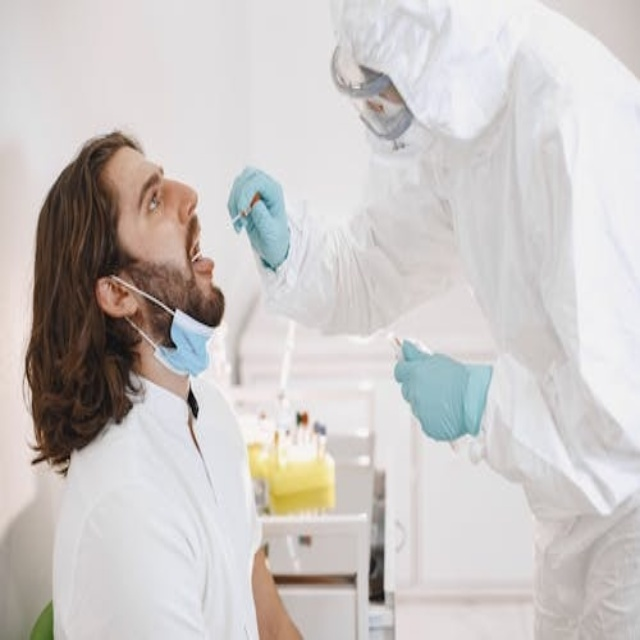Gafas: (320, 29, 425, 144)
Guantes: (394, 338, 492, 445), (228, 166, 291, 273)
Mascara: (340, 86, 440, 192)
Sin_gafas: (127, 161, 177, 225)
Sin_mascara: (177, 217, 218, 292)
